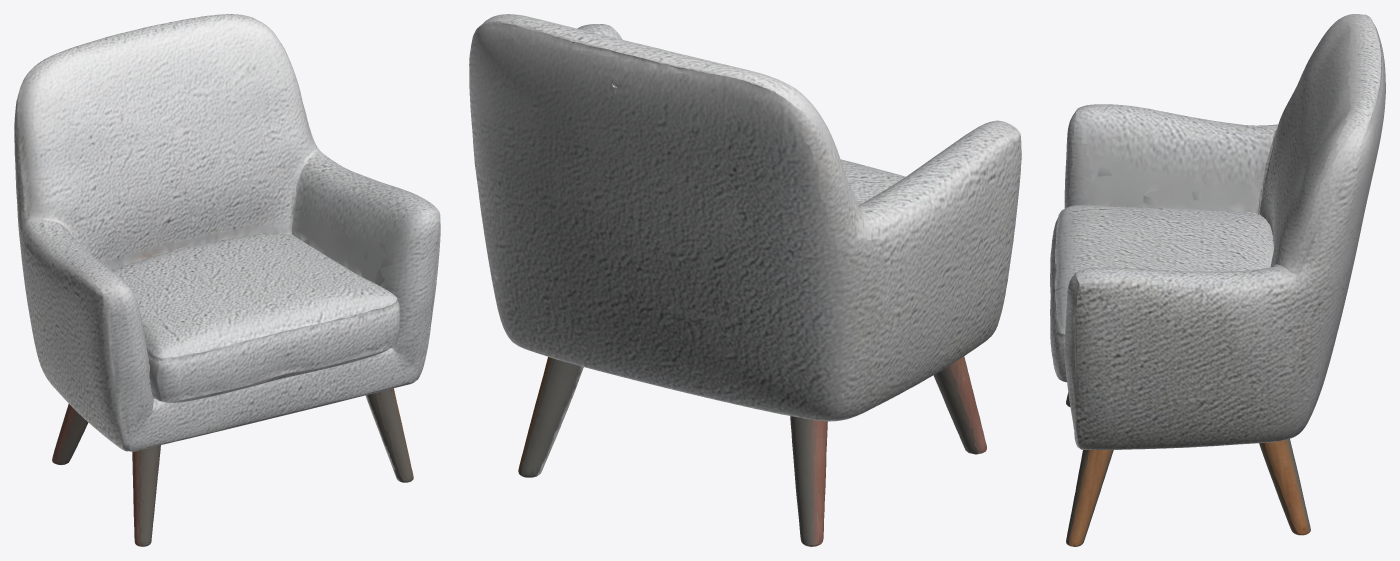
Rendered from L_ARMCHAIR.japandi.glb.
The picture shows the model from 3 angles, left to right: view 1: azimuth 30°, elevation 25°; view 2: azimuth 150°, elevation 25°; view 3: azimuth 270°, elevation 25°; orthographic projection. The views are drawn at different scales.
Visible parts, largest first — view 1: geometry_0; view 2: geometry_0; view 3: geometry_0.
Part boxes in pixels (x1,y1,x2,y2): geometry_0: [14, 14, 440, 546]; geometry_0: [469, 14, 1021, 546]; geometry_0: [1050, 14, 1385, 546].
Bounding box in the file's own units: 0.7728 × 0.82 × 0.6055.
Materials: 1 (1 with a texture image).
